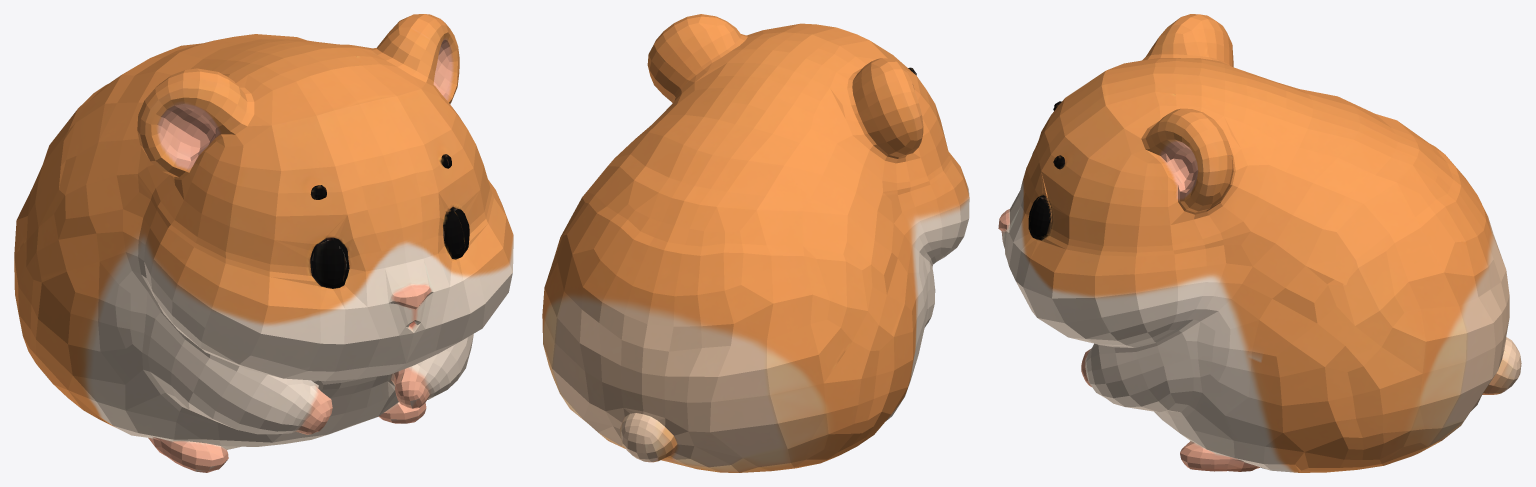
File: gerbil.glb
3 views of the same model, side by side, from view 1: azimuth 30°, elevation 25°; view 2: azimuth 150°, elevation 25°; view 3: azimuth 270°, elevation 25° (orthographic). The views are drawn at different scales.
Parts seen in each view (by area): view 1: Gerbil; view 2: Gerbil; view 3: Gerbil.
Boxes of the visible parts, x1,y1,x2,y2 form: Gerbil: (14, 14, 513, 472); Gerbil: (542, 14, 969, 472); Gerbil: (998, 14, 1521, 472).
Bounding box in the file's own units: 1.45 × 1.47 × 1.91.
1 material, 1 textured.
